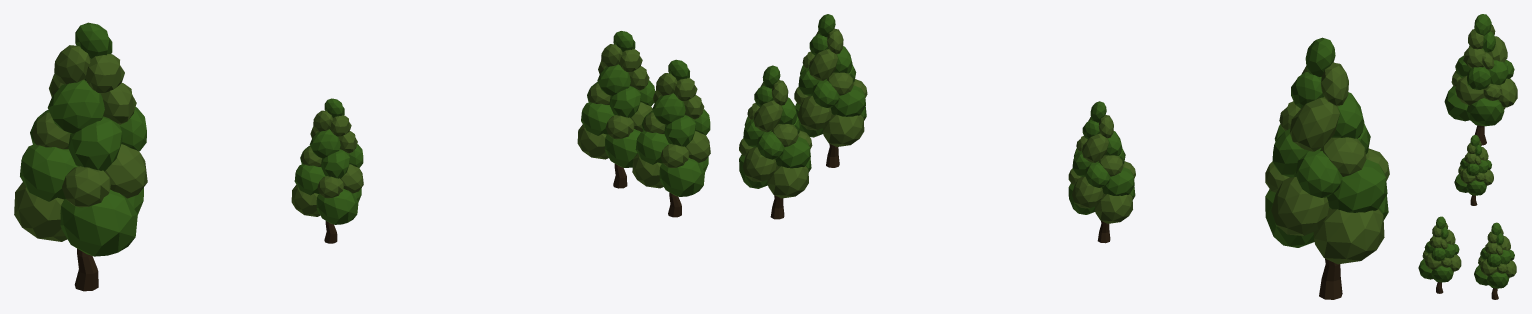
File: decor25.obj
The picture shows the model from 3 angles, left to right: view 1: azimuth 30°, elevation 25°; view 2: azimuth 150°, elevation 25°; view 3: azimuth 270°, elevation 25°; orthographic projection. The views are drawn at different scales.
Parts seen in each view (by area): view 1: Poplar_Cylinder.044, Poplar_Cylinder.042, Poplar_Cylinder.043, Poplar_Cylinder.041; view 2: Poplar_Cylinder.044, Poplar_Cylinder.043, Poplar_Cylinder.042, Poplar_Cylinder.041; view 3: Poplar_Cylinder.044, Poplar_Cylinder.043, Poplar_Cylinder.042, Poplar_Cylinder.041.
Part boxes in pixels (box(x1,y1,x2,y2)): Poplar_Cylinder.044: box(14, 22, 147, 291); Poplar_Cylinder.042: box(632, 59, 710, 217); Poplar_Cylinder.043: box(577, 31, 655, 188); Poplar_Cylinder.041: box(291, 98, 363, 243); Poplar_Cylinder.044: box(1265, 37, 1389, 299); Poplar_Cylinder.043: box(739, 65, 812, 219); Poplar_Cylinder.042: box(794, 14, 867, 167); Poplar_Cylinder.041: box(1068, 101, 1135, 243); Poplar_Cylinder.044: box(1444, 14, 1517, 145); Poplar_Cylinder.043: box(1474, 222, 1516, 299); Poplar_Cylinder.042: box(1418, 216, 1461, 293); Poplar_Cylinder.041: box(1454, 135, 1493, 205).
Size of the model in its own units: 4042 by 1833 by 1085.
